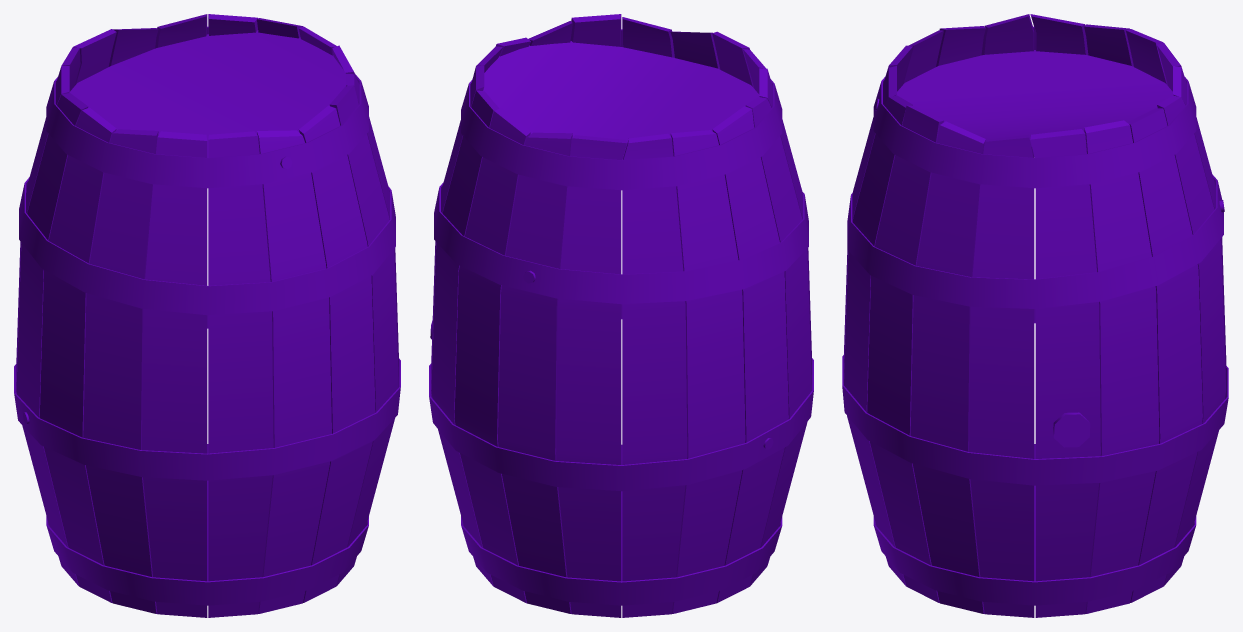
The model's file is barrel2_low.fbx.
3 views of the same model, side by side, from view 1: azimuth 30°, elevation 25°; view 2: azimuth 150°, elevation 25°; view 3: azimuth 270°, elevation 25° (orthographic).
Visible parts, largest first — view 1: planche_low, metal_low, couvercle_low; view 2: planche_low, metal_low, couvercle_low; view 3: planche_low, metal_low, couvercle_low.
Part boxes in pixels (x1,y1,x2,y2): planche_low: [16, 14, 398, 617]; metal_low: [14, 26, 400, 605]; couvercle_low: [69, 30, 345, 581]; planche_low: [431, 14, 812, 617]; metal_low: [429, 29, 813, 605]; couvercle_low: [483, 41, 759, 581]; planche_low: [843, 14, 1226, 617]; metal_low: [842, 26, 1228, 605]; couvercle_low: [896, 51, 1173, 581].
Bounding box in the file's own units: 40.8 × 55.7 × 40.16.
